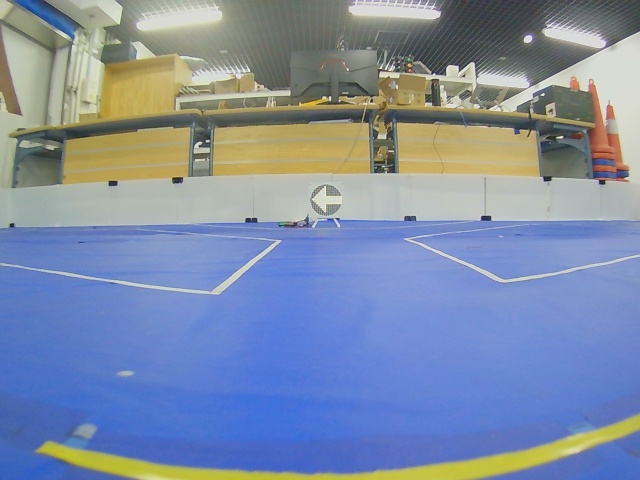left_yellow: (311, 184, 342, 216)
